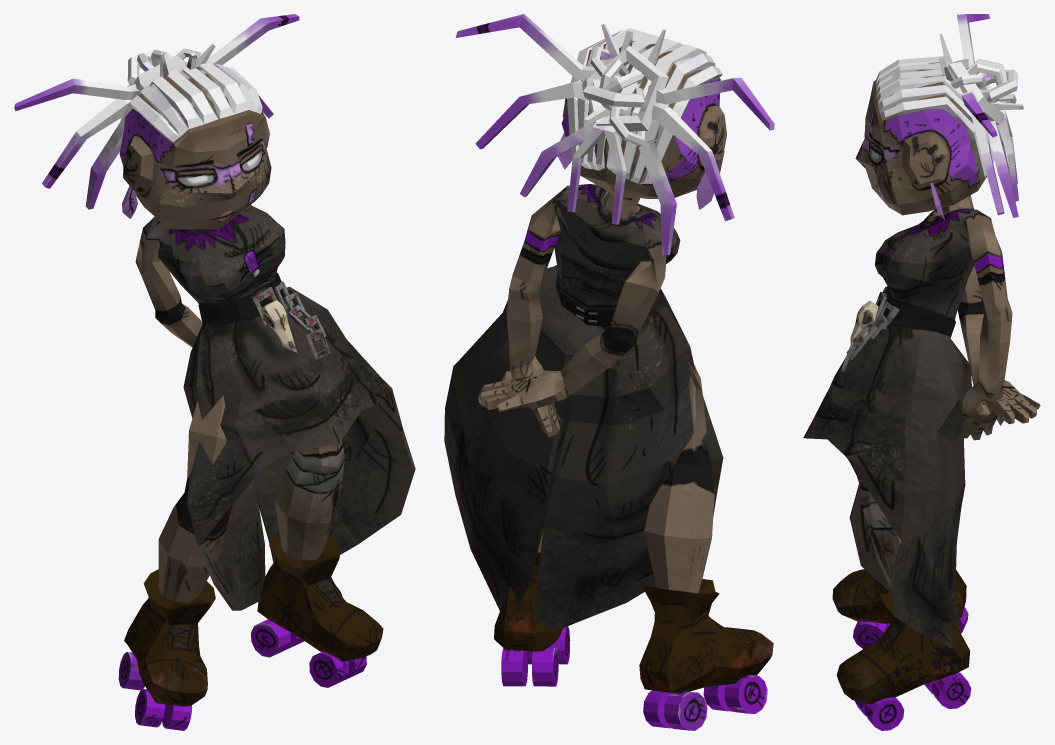
Rendered from bruja_000032.obj.
3 views of the same model, side by side, from view 1: azimuth 30°, elevation 25°; view 2: azimuth 150°, elevation 25°; view 3: azimuth 270°, elevation 25° (orthographic). The views are drawn at different scales.
Parts seen in each view (by area): view 1: Bruja_Plane.001; view 2: Bruja_Plane.001; view 3: Bruja_Plane.001.
Part boxes in pixels (bbox=[...]): Bruja_Plane.001: bbox=[14, 14, 415, 730]; Bruja_Plane.001: bbox=[444, 14, 774, 730]; Bruja_Plane.001: bbox=[803, 14, 1040, 730].
Bounding box in the file's own units: 9.11 × 16.01 × 5.51.
